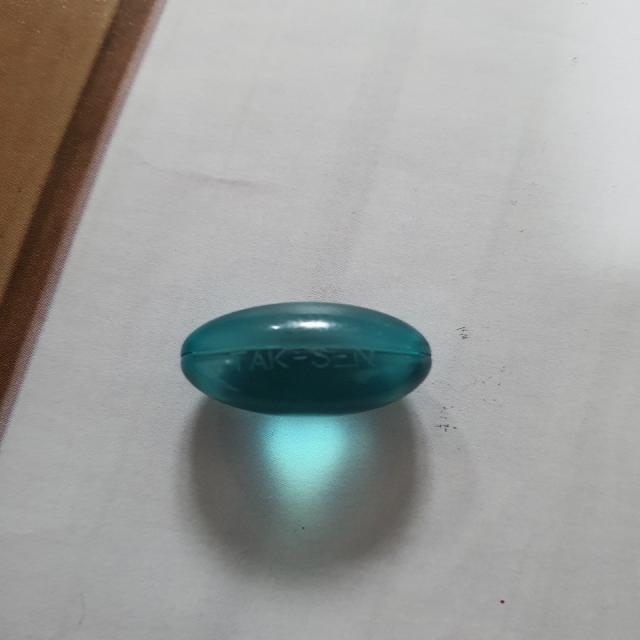pill: (143, 275, 466, 439)
